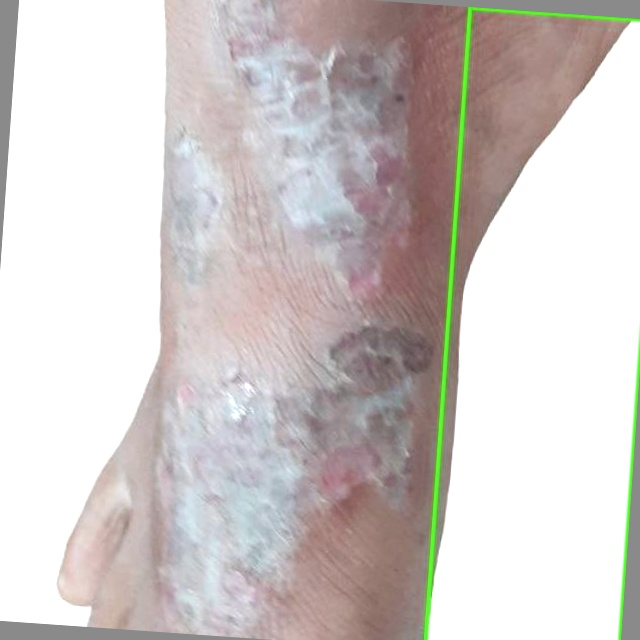Contact Dermatitis: (425, 7, 639, 639)
